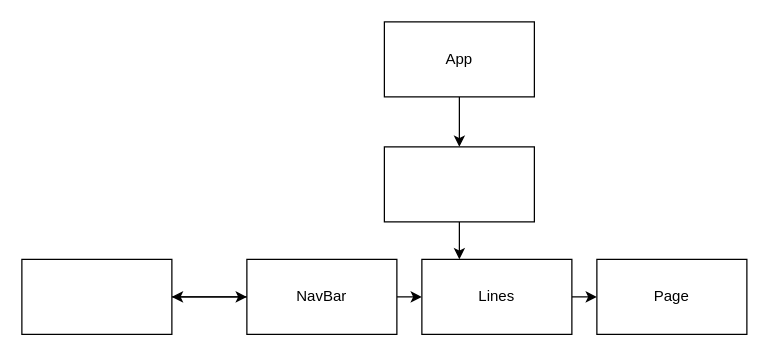
This 769x356 diagram has some shape labels left out. Here are the shapes that lost their labels. From the top down, the centre of each, then its label:
At point 458,184: "Header".
At point 96,296: "About".
